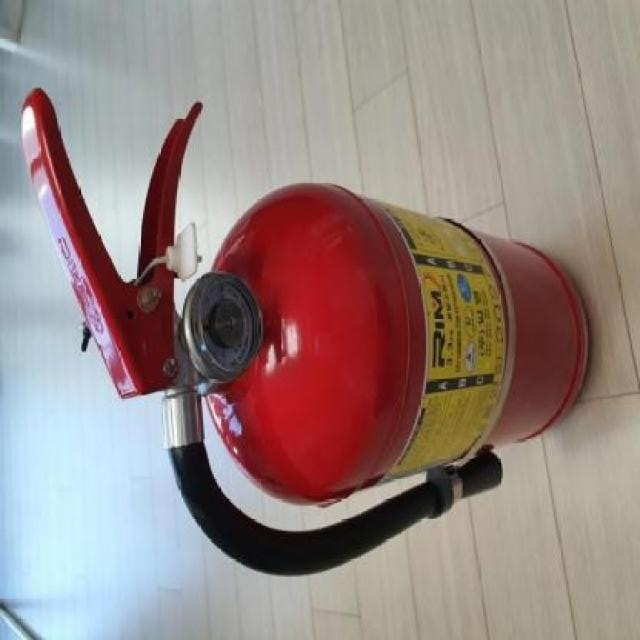fire extinguisher: (21, 84, 590, 576)
